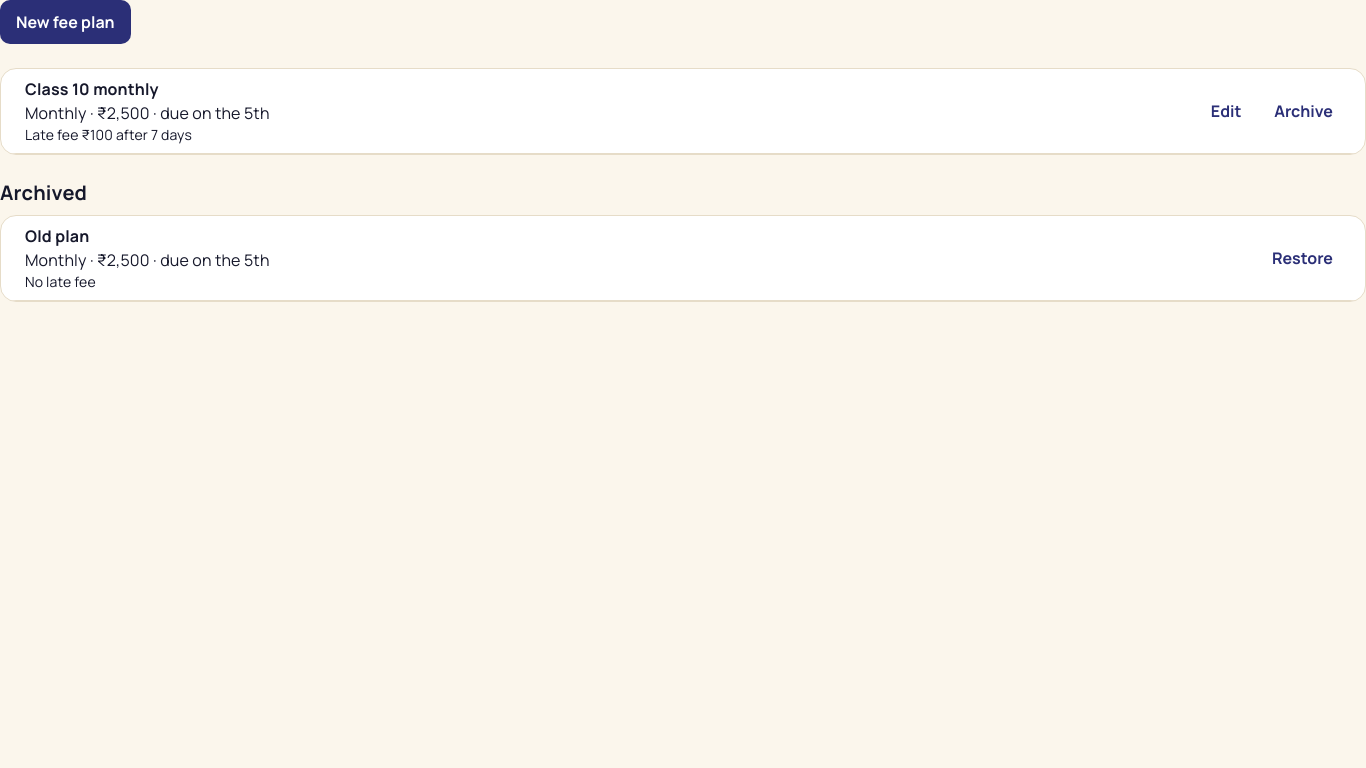
Test: FeePlans › explains what's wrong before sending anything
Click the button "New fee plan": (65, 22) [0,0,131,44]
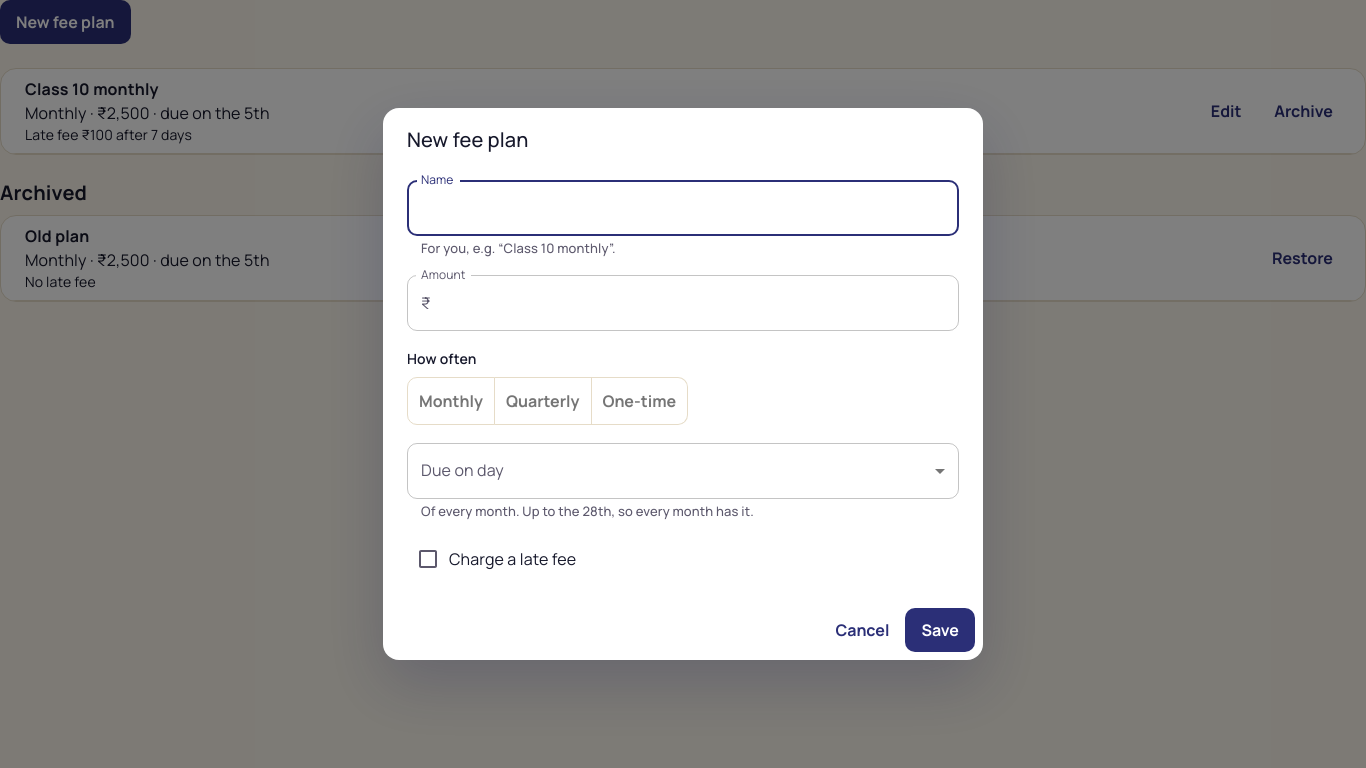
In the field labelled "Amount": (699, 303) [439,275,959,331], type "abc"
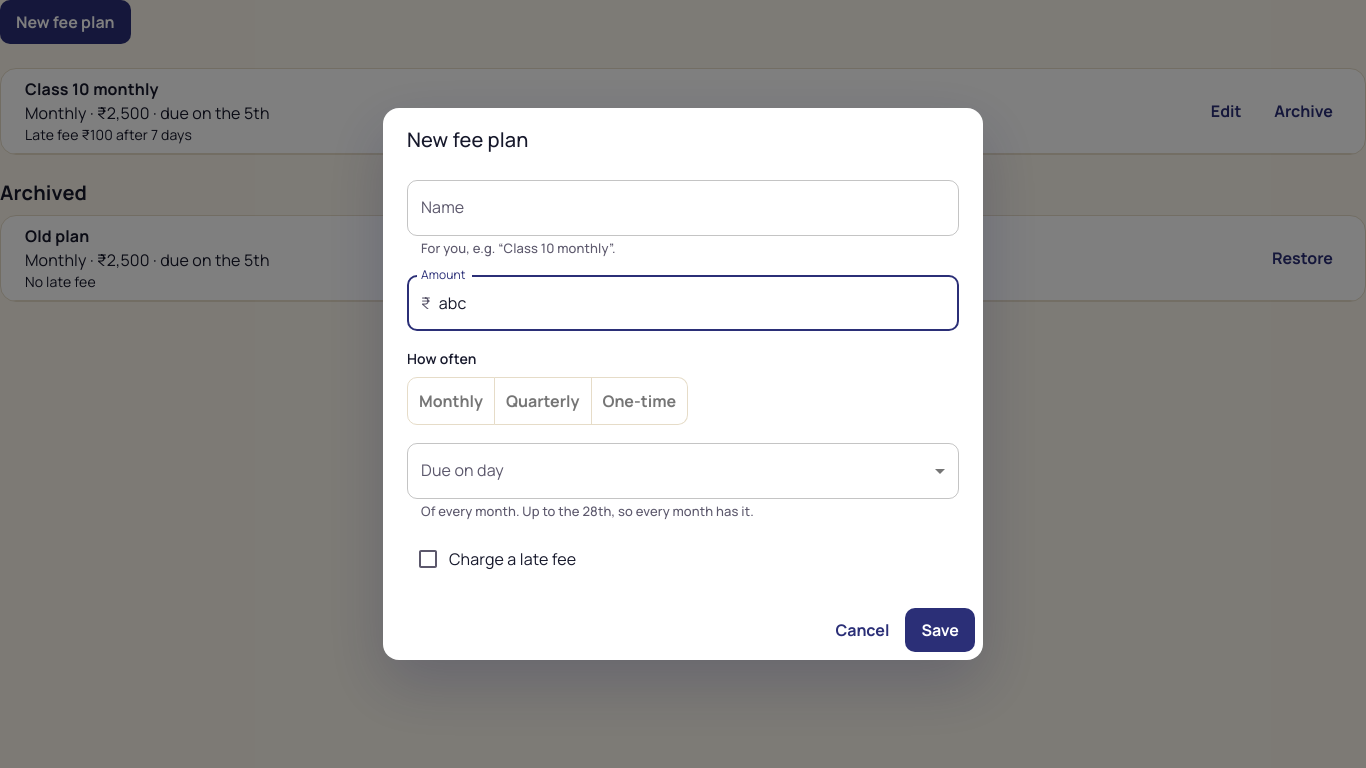
Click the button "Save": (940, 630) [905,608,975,652]
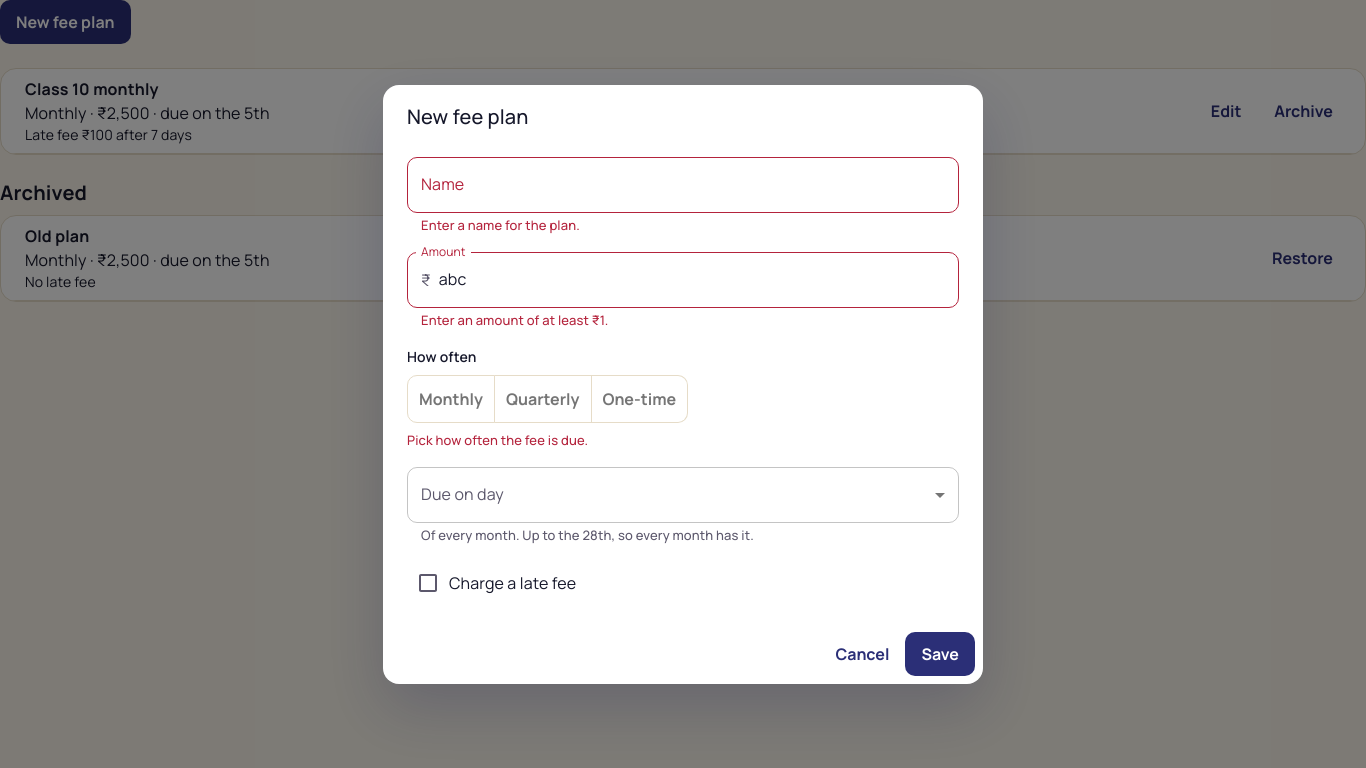
Expected: the text "Pick how often the fee is due." is shown, [407,430,588,448]
